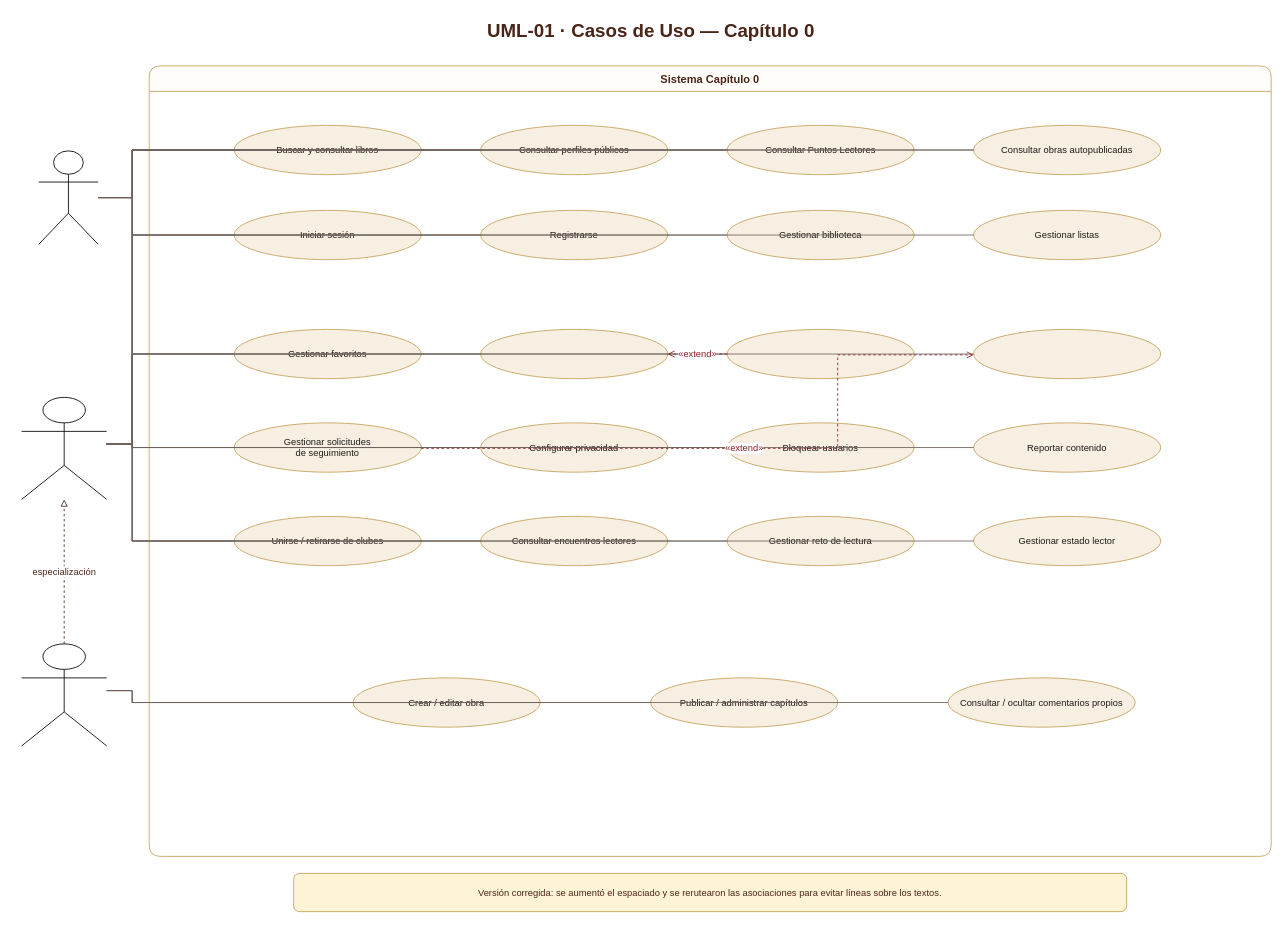
Image size: 1286x927. Some labels were removed from this diagram. The shapes that lost their labels are listed below. From the top down, each one's centre as x and y in pixels, then its label:
At point (68, 197): "Invitado".
At point (574, 354): "Publicar reseña / calificación".
At point (820, 354): "Publicar reseña anónima".
At point (1067, 354): "Seguir usuarios".
At point (64, 448): "Usuario autenticado".
At point (64, 694): "Autor independiente".
